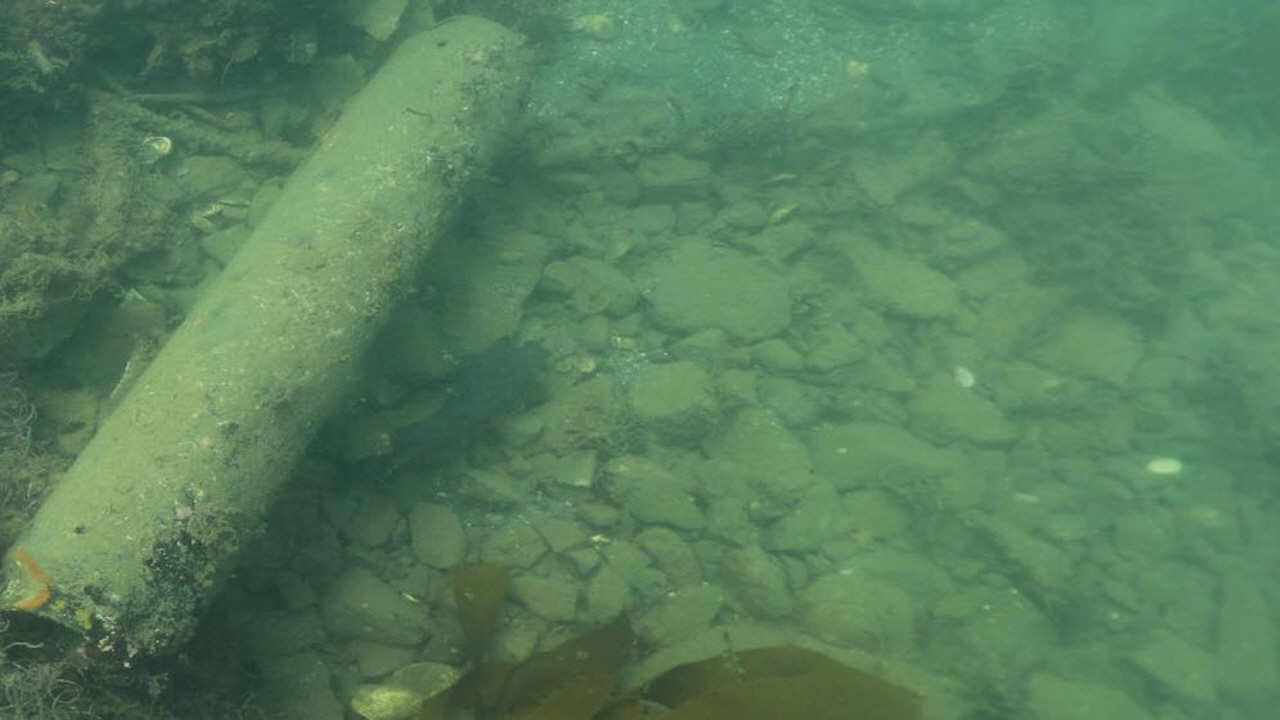eel fish trap: (0, 15, 540, 709)
